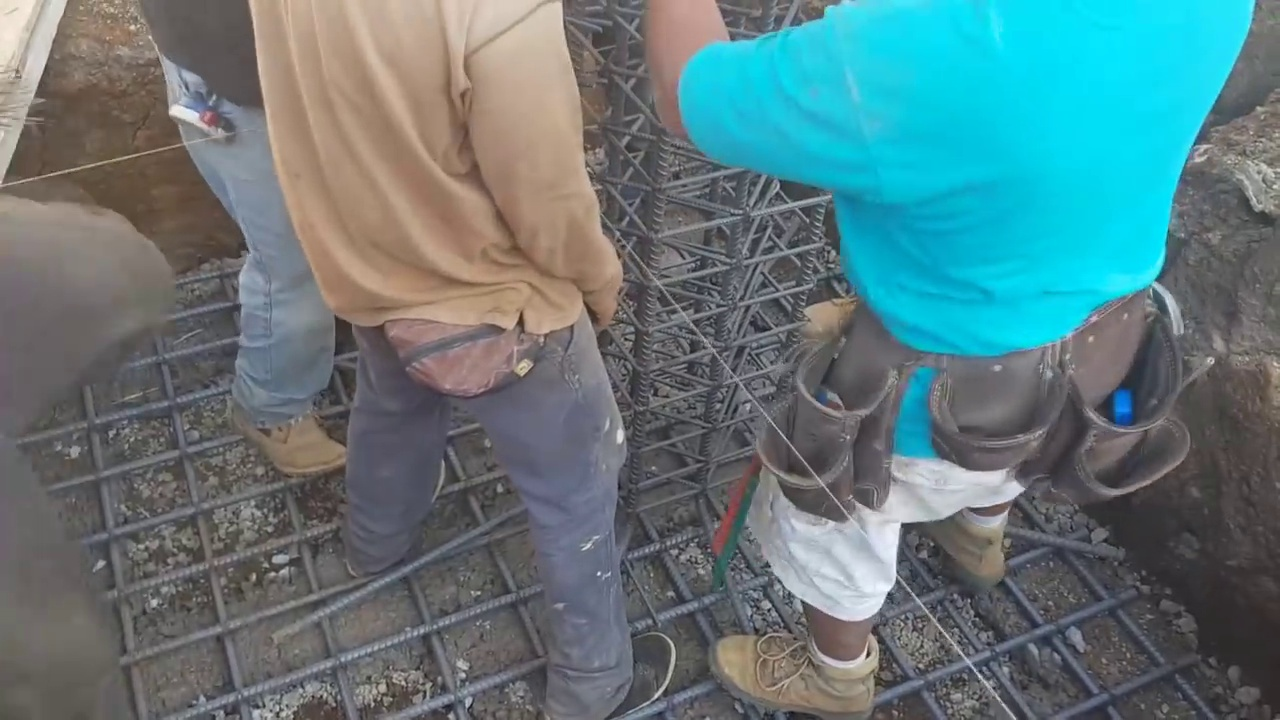person: (664, 0, 1245, 719), (231, 2, 677, 719), (134, 0, 351, 489)
